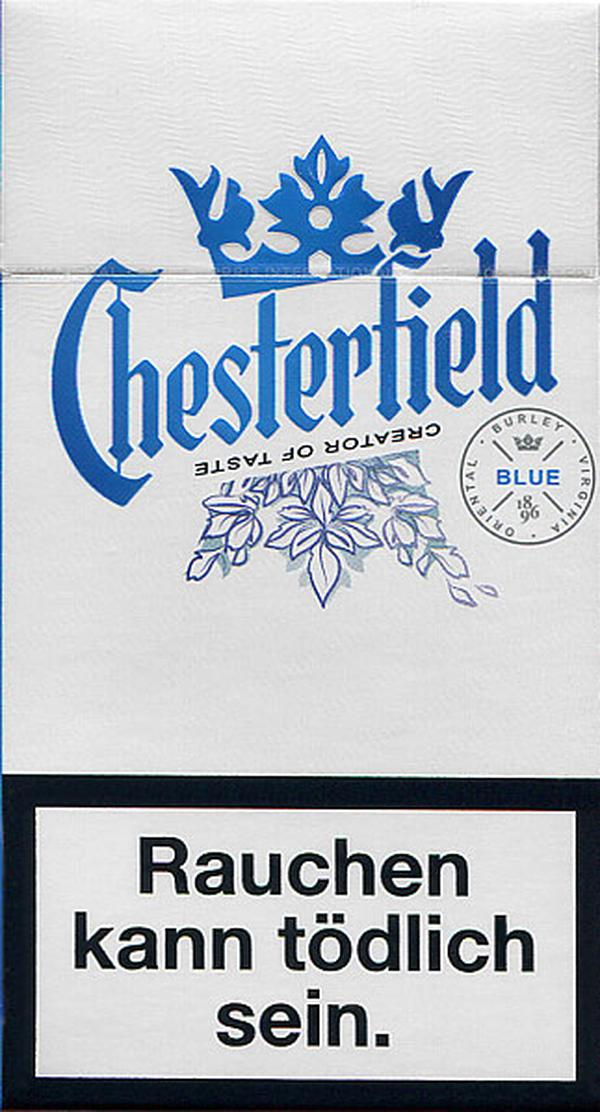chesterfield_blue: (1, 1, 600, 1110)
